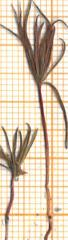flower: (0, 0, 68, 88), (0, 116, 40, 184)
stem: (36, 85, 53, 215)
